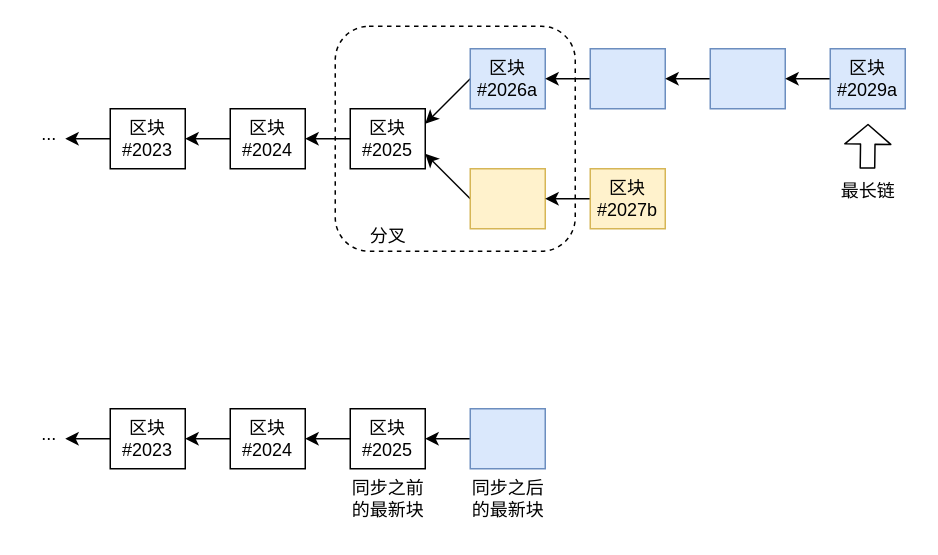
The diagram is 938 pixels wide and 555 high, and some of its shapes have lost their labels. Each missing label, with the box of its shape:
区块 #2026: (469, 407, 545, 469)
区块 #2026b: (469, 167, 545, 229)
区块 #2027a: (589, 47, 665, 109)
区块 #2028a: (709, 47, 785, 109)
